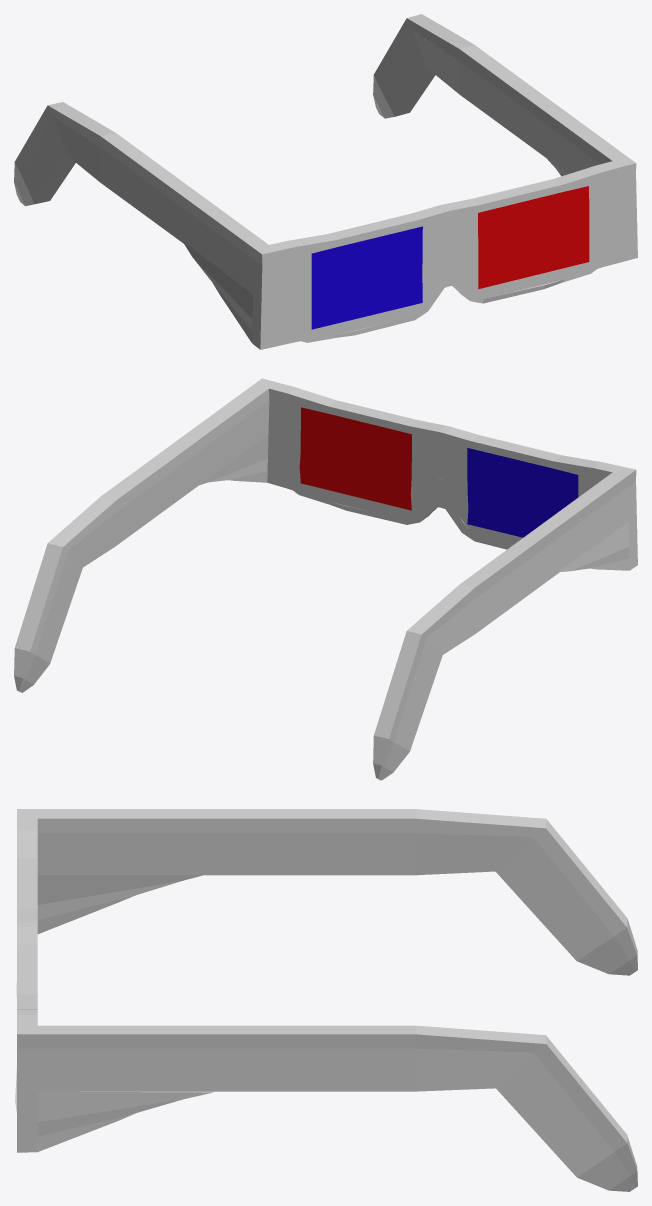
Rendered from glasses3d.glb.
The picture shows the model from 3 angles, top to bottom: view 1: azimuth 30°, elevation 25°; view 2: azimuth 150°, elevation 25°; view 3: azimuth 270°, elevation 25°; orthographic projection. The views are drawn at different scales.
Visible parts, largest first — view 1: Glasses-3D; view 2: Glasses-3D; view 3: Glasses-3D.
Part boxes in pixels (x1,y1,x2,y2): Glasses-3D: [14, 14, 637, 349]; Glasses-3D: [14, 378, 637, 780]; Glasses-3D: [15, 809, 637, 1191].
Bounding box in the file's own units: 0.7812 × 0.2578 × 0.9033.
